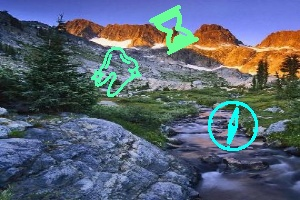指南针: (208, 101, 258, 150)
沙漏: (150, 5, 199, 53)
牙齿: (92, 46, 140, 93)
